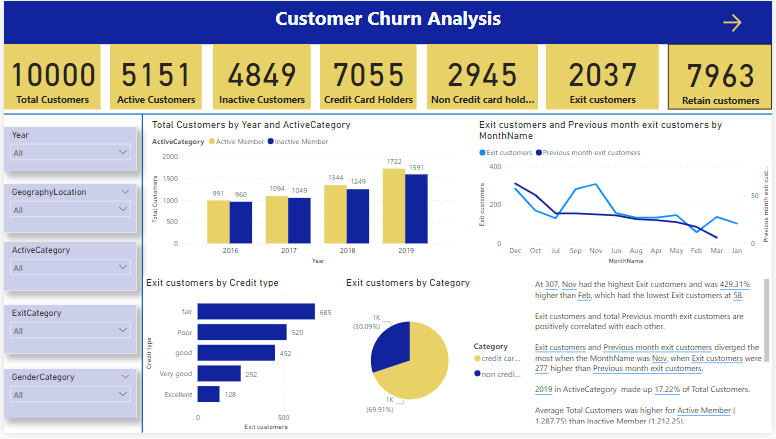

The dashboard page shown, as its layout file describes it:
{"tool":"powerbi","page":{"name":"HomePage","canvas":[1280,720],"ordinal":0},"visuals":[{"type":"textbox","box":[0,0,1280,72.2],"z":0},{"type":"card","fields":{"Values":["Calculations.Total Customers"]},"box":[0,72.2,161.3,109.2],"z":1000},{"type":"card","fields":{"Values":["Calculations.Active Customers"]},"box":[176.4,72.2,152.9,109.2],"z":2000},{"type":"card","fields":{"Values":["Calculations.Incactive Customers"]},"box":[347.7,72.2,162.9,109.2],"z":3000},{"type":"card","fields":{"Values":["Calculations.Credit Card Holders"]},"box":[527.5,72.2,161.3,109.2],"z":4000},{"type":"card","fields":{"Values":["Calculations.Non Credit card holders"]},"box":[705.5,72.2,184.8,109.2],"z":5000},{"type":"card","fields":{"Values":["Calculations.Exit customers"]},"box":[903.7,72.2,188.1,109.2],"z":6000},{"type":"card","fields":{"Values":["Calculations.Retain customers"]},"box":[1107,72.2,173,109.2],"z":7000},{"type":"shape","box":[0,181.4,1280,13.4],"z":8000},{"type":"shape","box":[208.8,188.6,44.6,531.4],"z":9000},{"type":"slicer","fields":{"Values":["DateMaster.Year"]},"box":[0,209.8,221.1,73.7],"z":10000},{"type":"slicer","fields":{"Values":["Geography.GeographyLocation"]},"box":[0,304.7,221.1,80.8],"z":11000},{"type":"slicer","fields":{"Values":["ExitCustomer.ExitCategory"]},"box":[0,507.4,221.1,80.8],"z":12000},{"type":"slicer","fields":{"Values":["ActiveCustomer.ActiveCategory"]},"box":[0,401.1,221.1,80.8],"z":13000},{"type":"slicer","fields":{"Values":["Gender.GenderCategory"]},"box":[0,613.7,221.1,82.2],"z":14000},{"type":"clusteredColumnChart","fields":{"Category":["DateMaster.Year","DateMaster.MonthName"],"Y":["Calculations.Total Customers"],"Series":["ActiveCustomer.ActiveCategory"]},"box":[242.4,194.2,511.7,248],"z":15000},{"type":"lineChart","fields":{"Category":["DateMaster.MonthName"],"Y":["Calculations.Exit customers"],"Y2":["Calculations.Previous month exit customers"]},"box":[786.6,194.2,493.2,248],"z":16000},{"type":"barChart","fields":{"Y":["Calculations.Exit customers"],"Category":["Bank_Churn.Credit type"]},"box":[232.4,457.7,334.3,262.8],"z":17000},{"type":"pieChart","fields":{"Category":["CreditCard.Category"],"Y":["Calculations.Exit customers"]},"box":[564.9,457.7,314.6,262.8],"z":18000},{"type":"textbox","box":[880.2,457.8,399.7,250.9],"z":19000},{"type":"actionButton","box":[1193.3,16.7,50,40],"z":20001}]}

Visuals, with their boxes in screenshot pixels (x1, y1, x2, y2), scaled from the page's 1280x720 canvas onto the 776x439 screenshot:
textbox: bbox=[0, 0, 775, 44]
card - Calculations.Total Customers: bbox=[0, 44, 98, 111]
card - Calculations.Active Customers: bbox=[107, 44, 200, 111]
card - Calculations.Incactive Customers: bbox=[211, 44, 310, 111]
card - Calculations.Credit Card Holders: bbox=[320, 44, 418, 111]
card - Calculations.Non Credit card holders: bbox=[428, 44, 540, 111]
card - Calculations.Exit customers: bbox=[548, 44, 662, 111]
card - Calculations.Retain customers: bbox=[671, 44, 775, 111]
shape: bbox=[0, 111, 775, 119]
shape: bbox=[127, 115, 154, 438]
slicer - DateMaster.Year: bbox=[0, 128, 134, 173]
slicer - Geography.GeographyLocation: bbox=[0, 186, 134, 235]
slicer - ExitCustomer.ExitCategory: bbox=[0, 309, 134, 359]
slicer - ActiveCustomer.ActiveCategory: bbox=[0, 245, 134, 294]
slicer - Gender.GenderCategory: bbox=[0, 374, 134, 424]
clusteredColumnChart - DateMaster.Year x DateMaster.MonthName: bbox=[147, 118, 457, 270]
lineChart - DateMaster.MonthName x Calculations.Exit customers: bbox=[477, 118, 775, 270]
barChart - Calculations.Exit customers x Bank_Churn.Credit type: bbox=[141, 279, 344, 438]
pieChart - CreditCard.Category x Calculations.Exit customers: bbox=[342, 279, 533, 438]
textbox: bbox=[534, 279, 775, 432]
actionButton: bbox=[723, 10, 754, 35]
